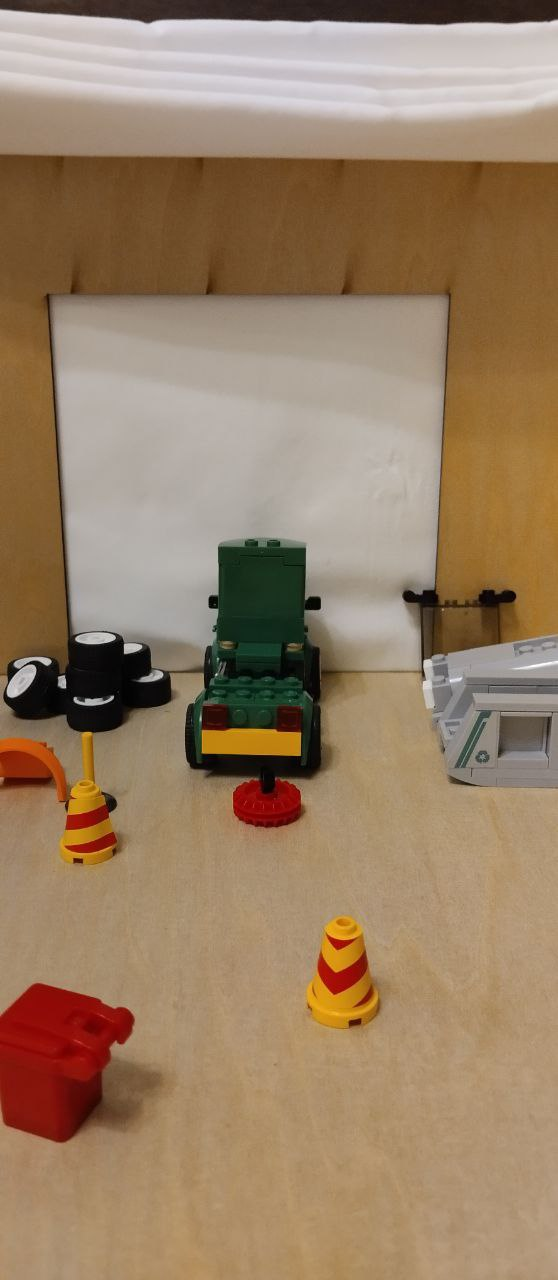Cone: (301, 916, 392, 1036), (56, 781, 135, 870)
Object Red: (1, 978, 151, 1145)
Truck: (173, 532, 335, 776)
